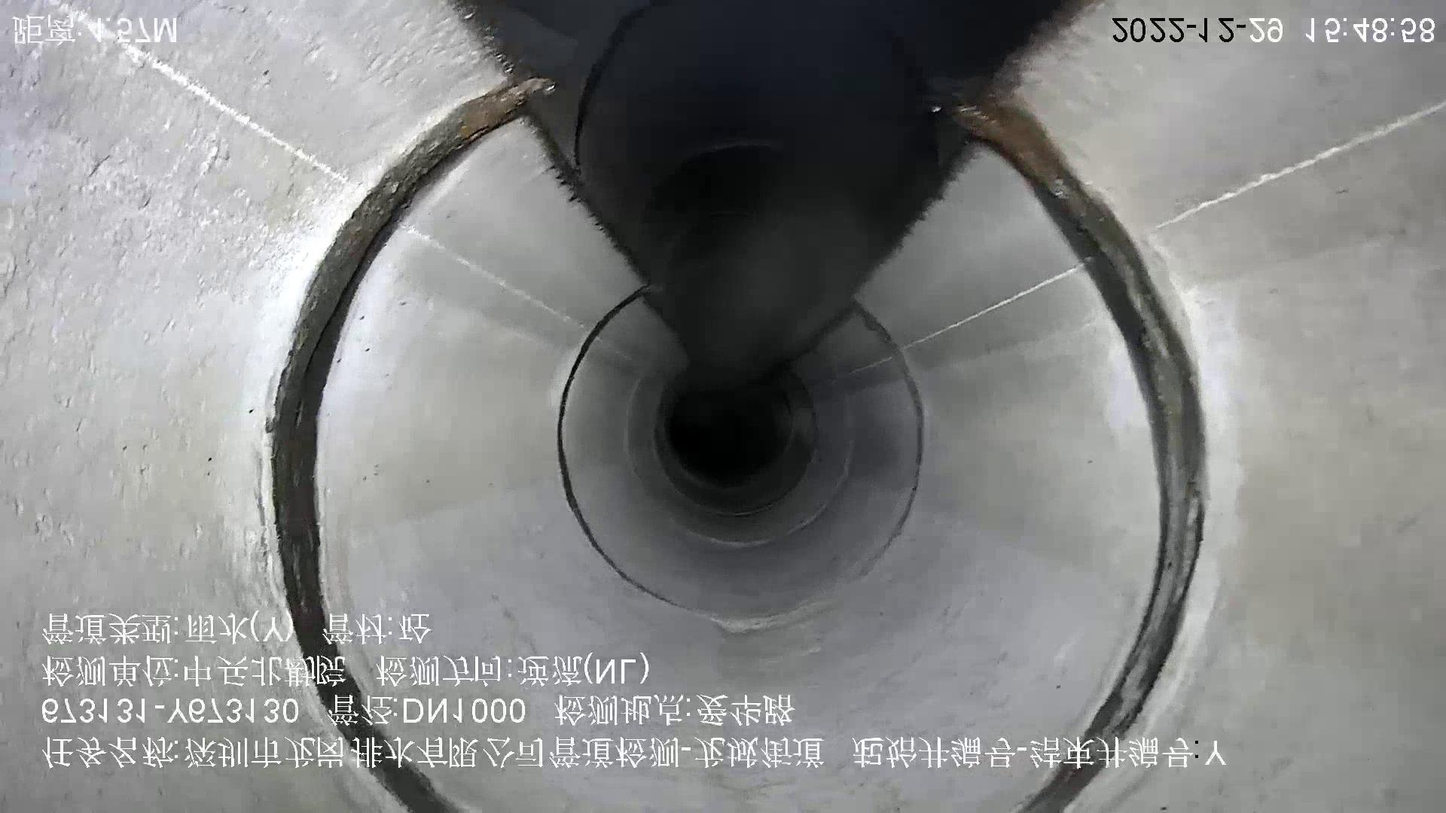CKTJ: (929, 99, 1217, 811), (273, 88, 534, 813)
